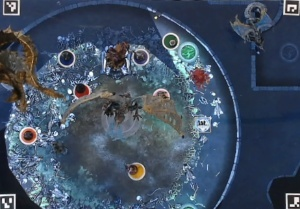blue: (54, 48, 77, 68)
green: (159, 30, 179, 52)
orange: (18, 124, 40, 148)
pink: (150, 86, 169, 104)
red: (70, 82, 91, 102)
violet: (130, 47, 150, 67)
yellow: (125, 160, 148, 182)
